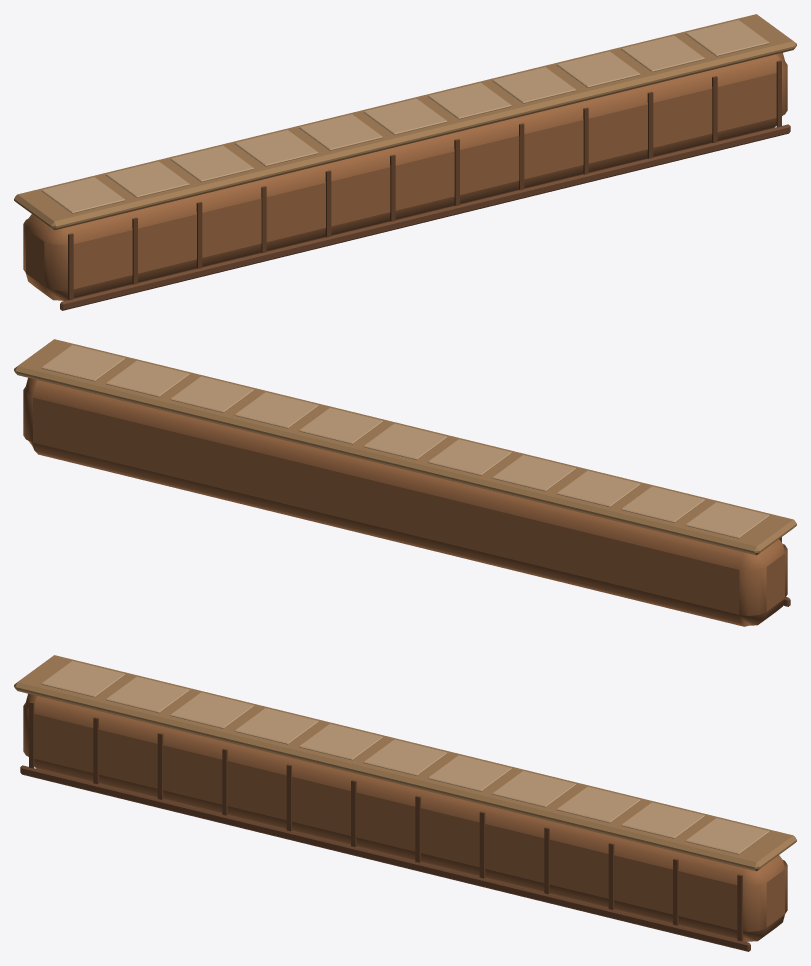
The model's file is package_counter.glb.
3 renders of one model, top to bottom at view 1: azimuth 30°, elevation 25°; view 2: azimuth 150°, elevation 25°; view 3: azimuth 330°, elevation 25°, orthographic.
Parts seen in each view (by area): view 1: body; view 2: body; view 3: body.
Part boxes in pixels (x1,y1,x2,y2): body: [14, 14, 796, 310]; body: [14, 339, 796, 626]; body: [14, 655, 796, 951].
Size of the model in its own units: 6.95 by 0.816 by 0.67.
